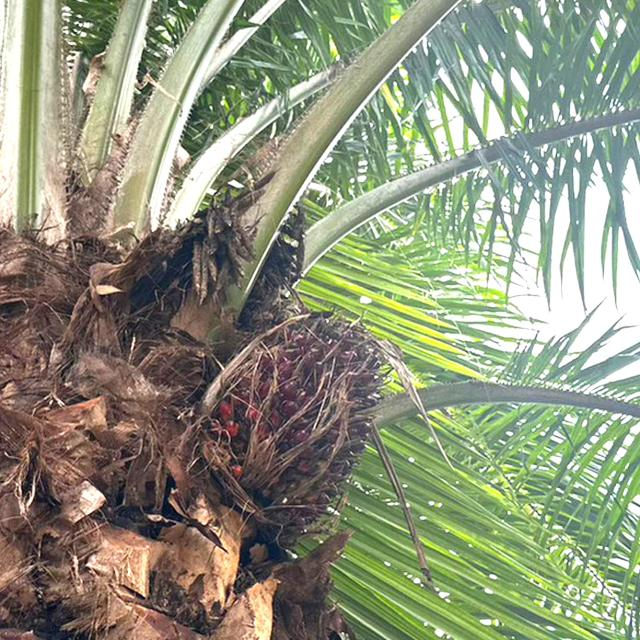ripe: (188, 289, 399, 529)
